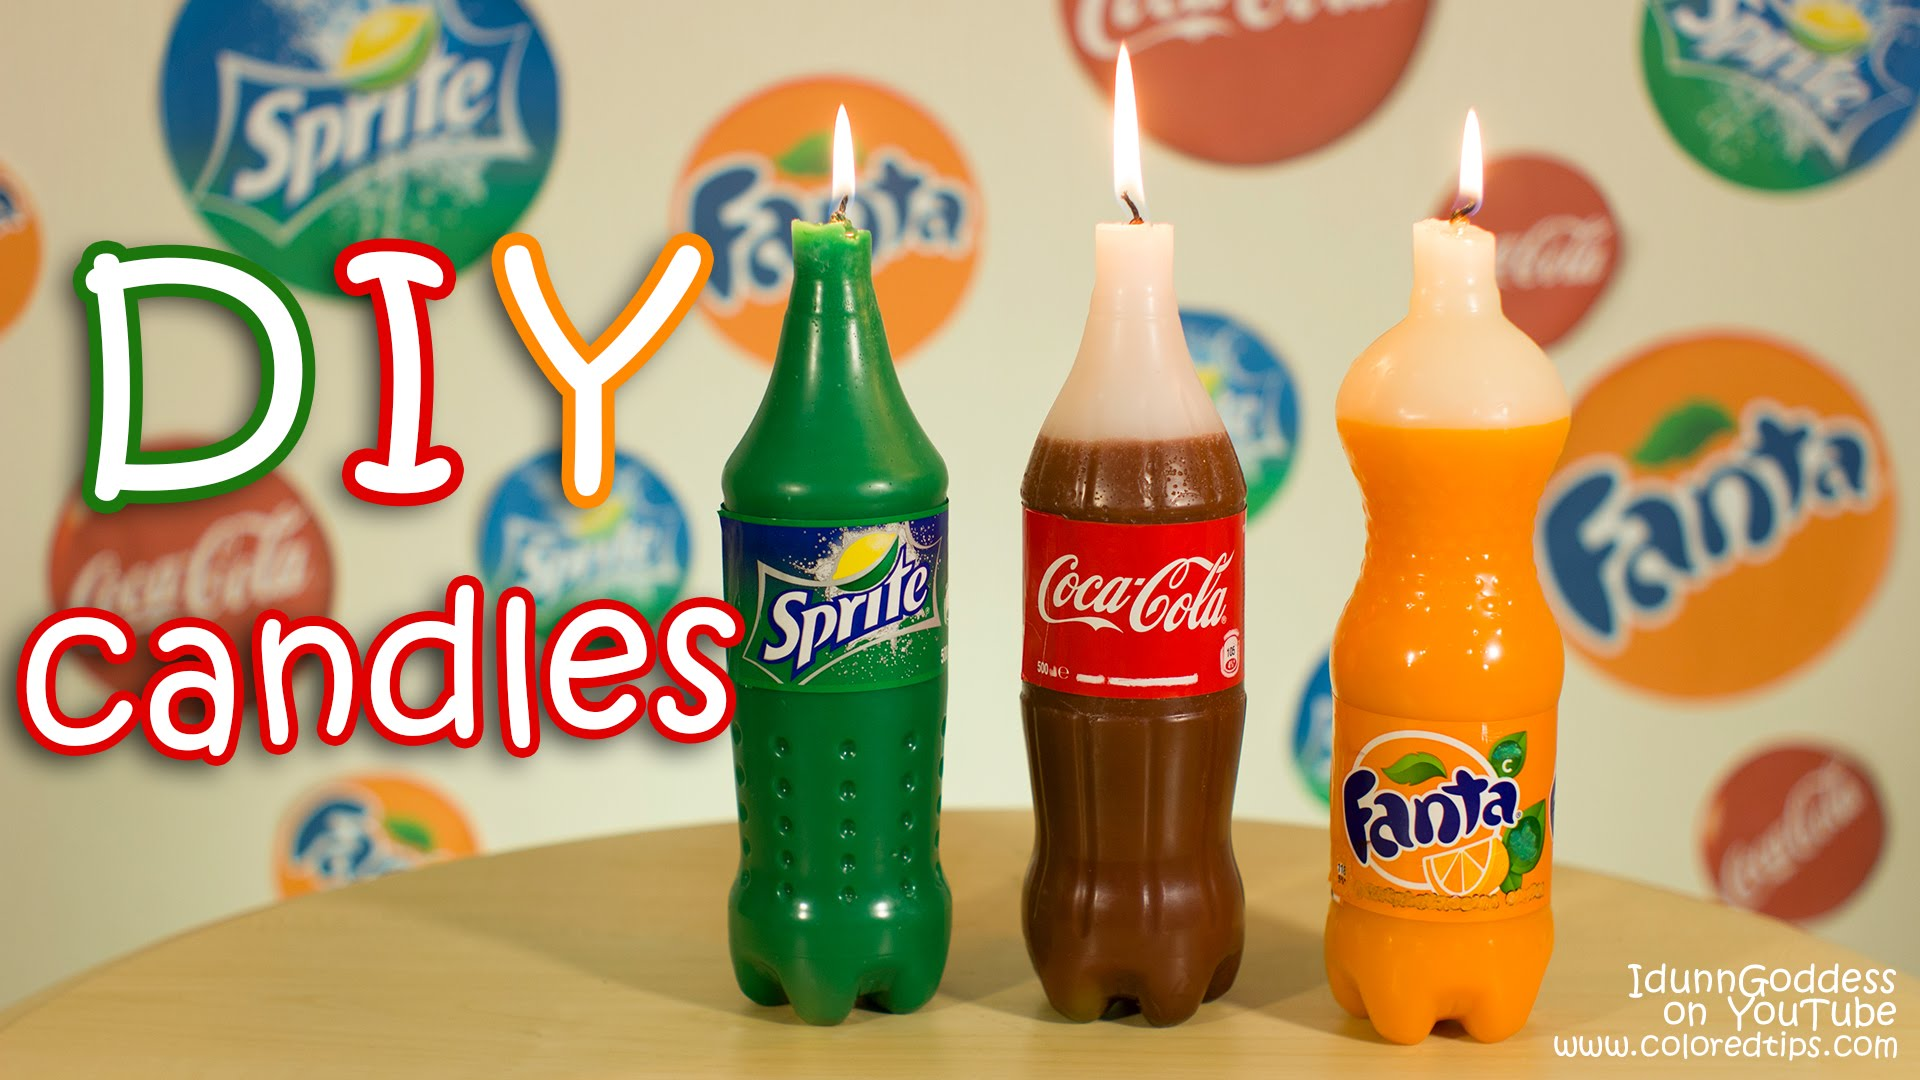fanta: (1345, 232, 1567, 1040)
